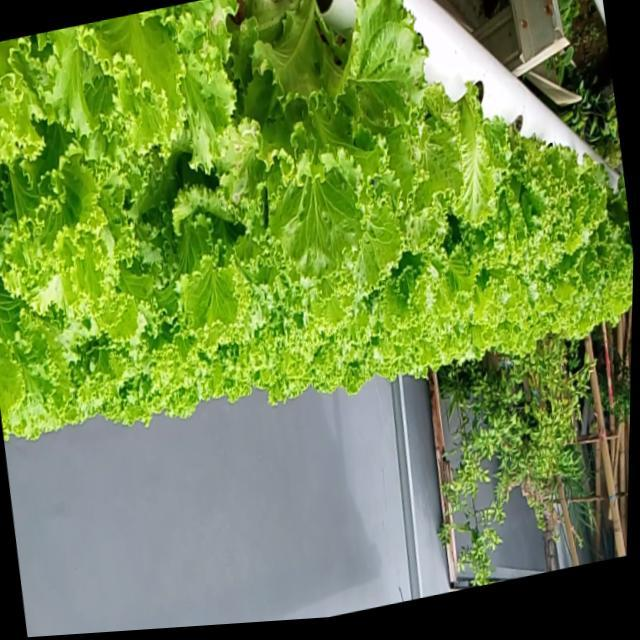Mature: (0, 0, 633, 462), (248, 0, 445, 290), (475, 112, 624, 318)
